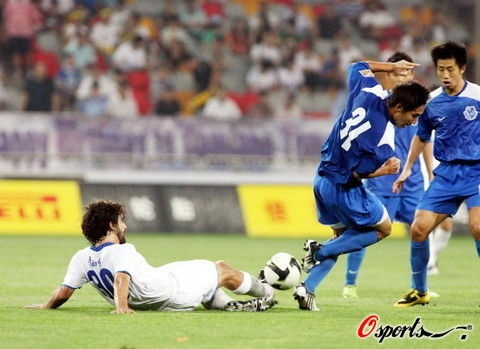falling: (32, 190, 283, 318)
